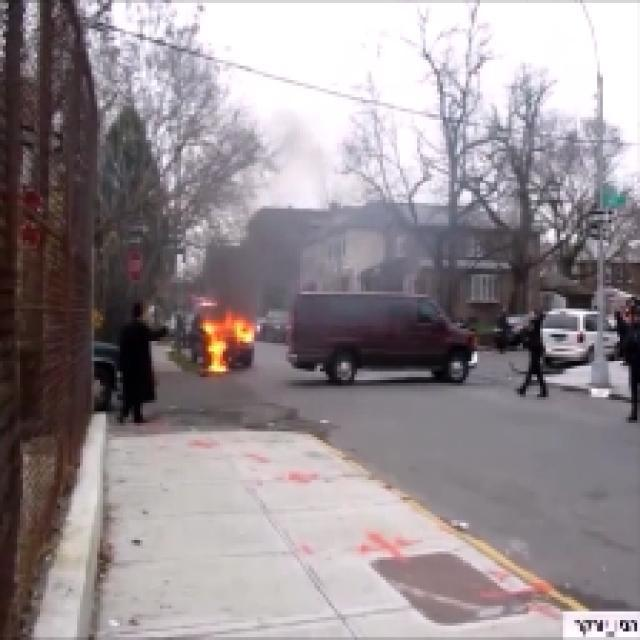Fire: (197, 316, 262, 374)
